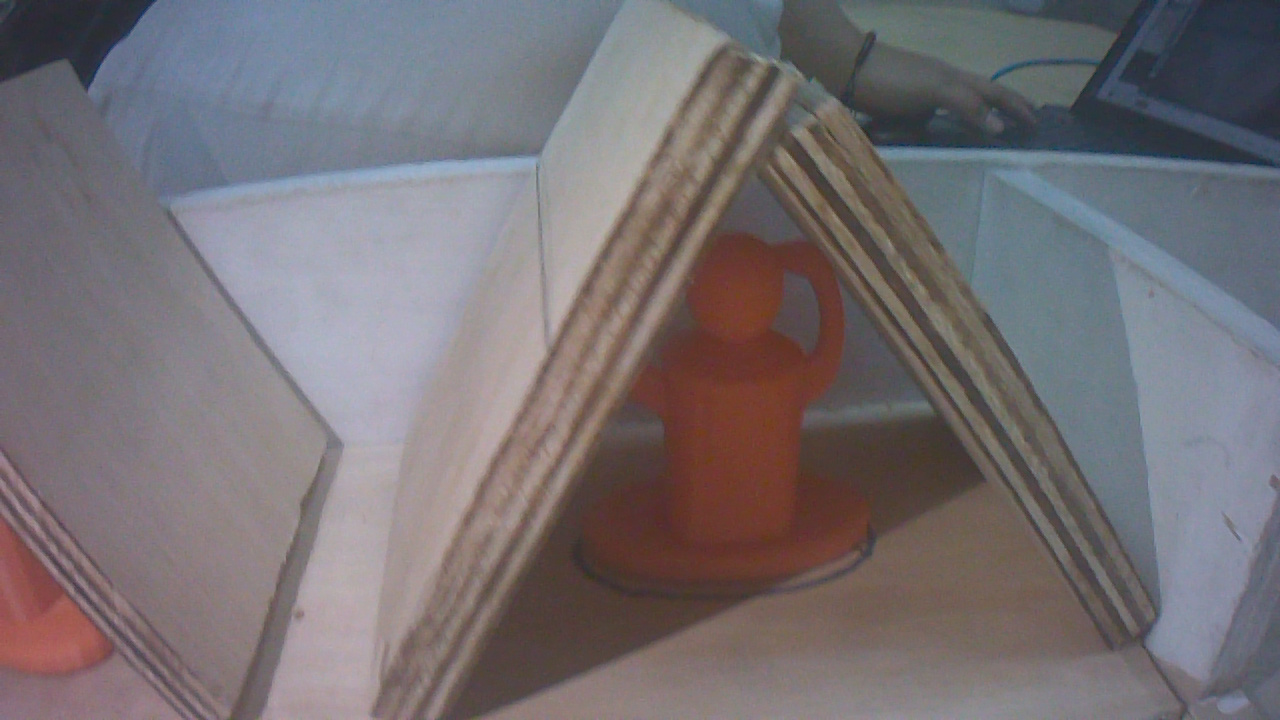real: (598, 231, 852, 585)
